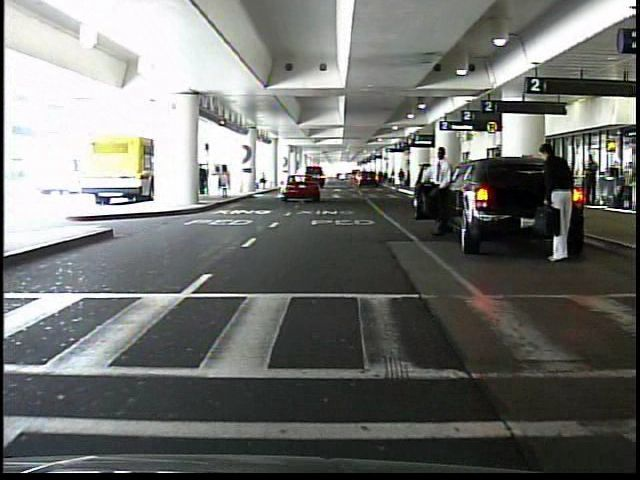person: (534, 140, 579, 263), (425, 147, 454, 244), (583, 154, 596, 206), (196, 160, 211, 196), (397, 166, 408, 189)
